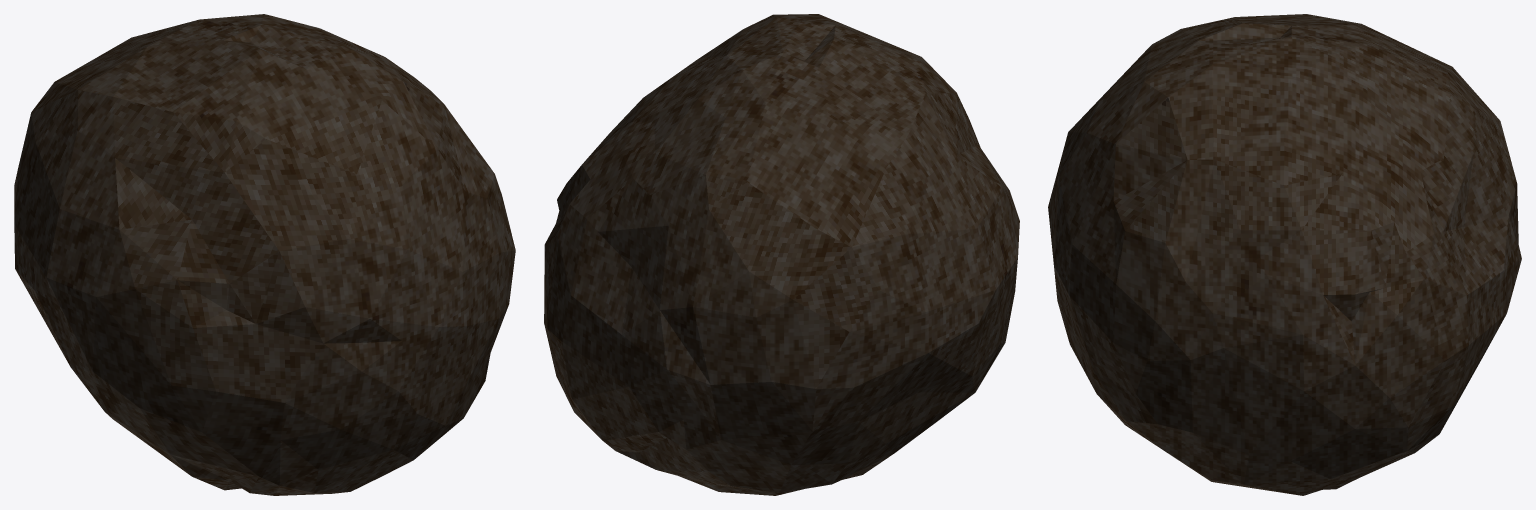
Rendered from boulder1.glb.
3 views of the same model, side by side, from view 1: azimuth 30°, elevation 25°; view 2: azimuth 150°, elevation 25°; view 3: azimuth 270°, elevation 25° (orthographic). The views are drawn at different scales.
Visible parts, largest first — view 1: Sphere; view 2: Sphere; view 3: Sphere.
Part boxes in pixels (x1,y1,x2,y2): Sphere: (14,14,515,495); Sphere: (544,14,1019,495); Sphere: (1048,14,1521,495).
Size of the model in its own units: 4.48 by 4.5 by 4.5.
Materials: 1 (1 with a texture image).
